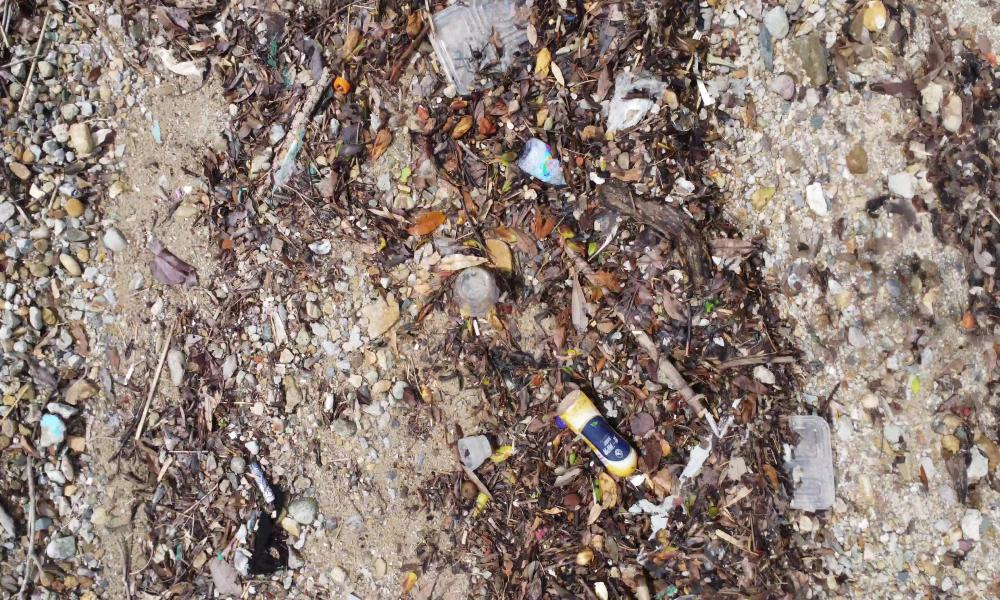plastic bottle: (554, 373, 646, 484), (519, 133, 582, 207)
